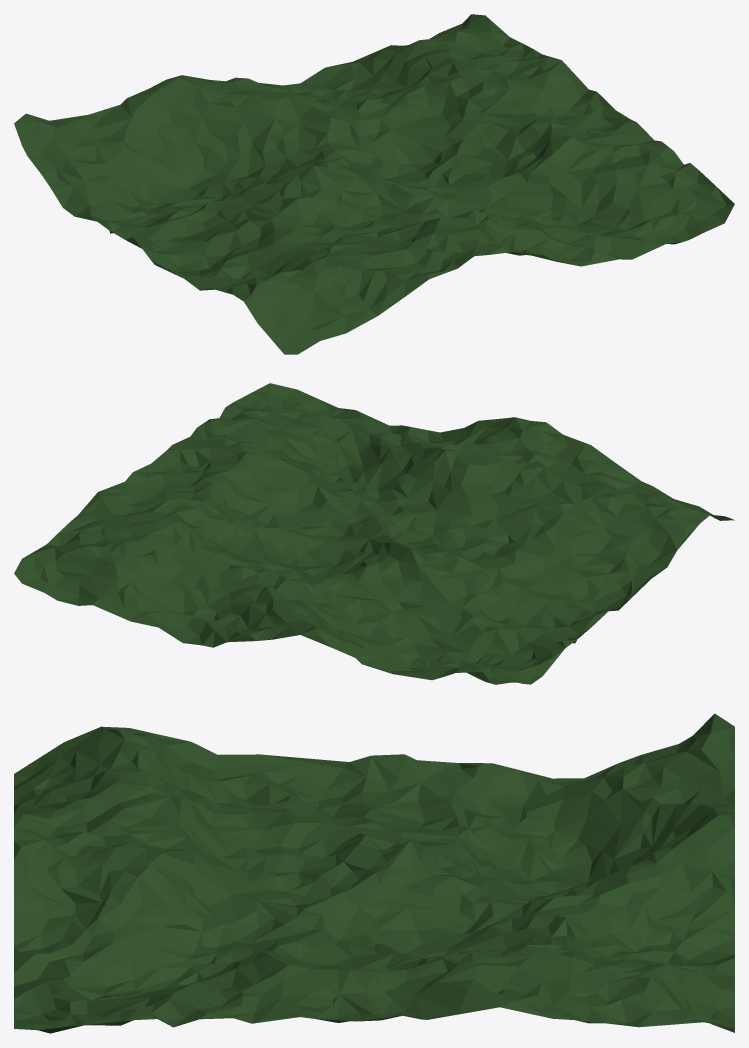
Rendered from SM_landscape_21.fbx.
3 views of the same model, one above another, from view 1: azimuth 30°, elevation 25°; view 2: azimuth 150°, elevation 25°; view 3: azimuth 270°, elevation 25° (orthographic). The views are drawn at different scales.
Visible parts, largest first — view 1: landscape_21; view 2: landscape_21; view 3: landscape_21.
Part boxes in pixels (x1,y1,x2,y2): landscape_21: (14, 14, 734, 354); landscape_21: (14, 383, 734, 684); landscape_21: (14, 713, 734, 1033).
Size of the model in its own units: 2224 by 341 by 2224.
